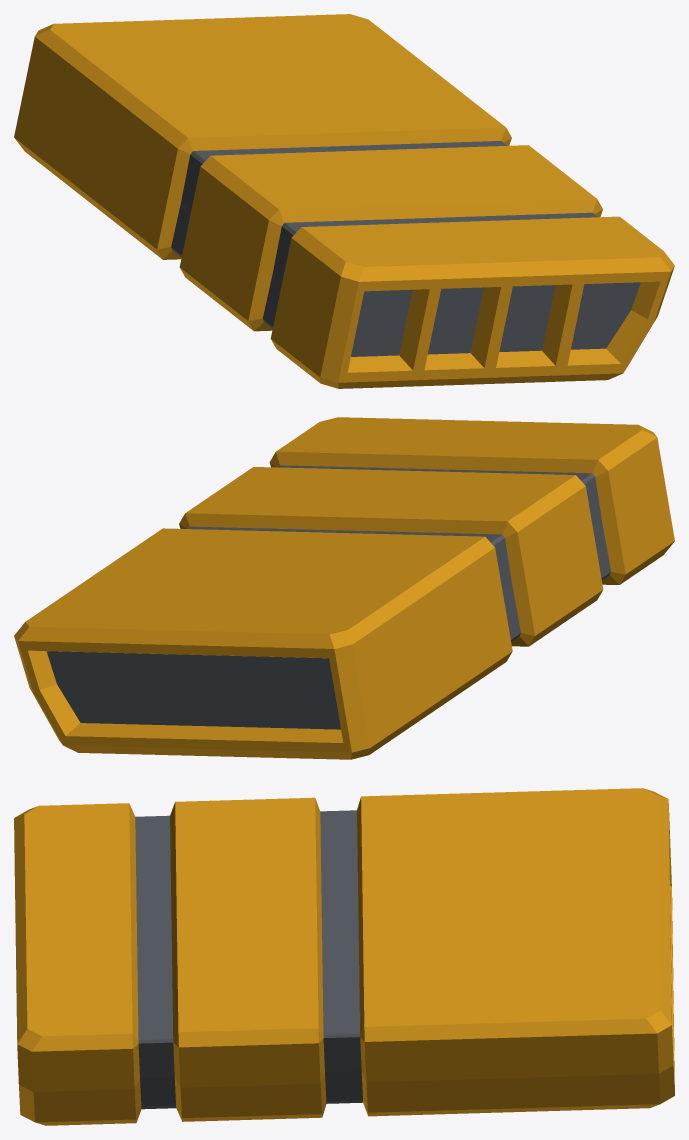
The model's file is Dropship_01_Artillery_Right_Yellow.fbx.
3 renders of one model, top to bottom at view 1: azimuth 30°, elevation 25°; view 2: azimuth 150°, elevation 25°; view 3: azimuth 270°, elevation 25°, orthographic. The views are drawn at different scales.
Parts seen in each view (by area): view 1: Dropship_01_Artillery_Right_Yellow; view 2: Dropship_01_Artillery_Right_Yellow; view 3: Dropship_01_Artillery_Right_Yellow.
Boxes of the visible parts, x1,y1,x2,y2 form: Dropship_01_Artillery_Right_Yellow: (14, 14, 674, 388); Dropship_01_Artillery_Right_Yellow: (14, 417, 674, 759); Dropship_01_Artillery_Right_Yellow: (14, 788, 674, 1125).
Bounding box in the file's own units: 362 × 192 × 568.
Materials: 1 (1 with a texture image).
